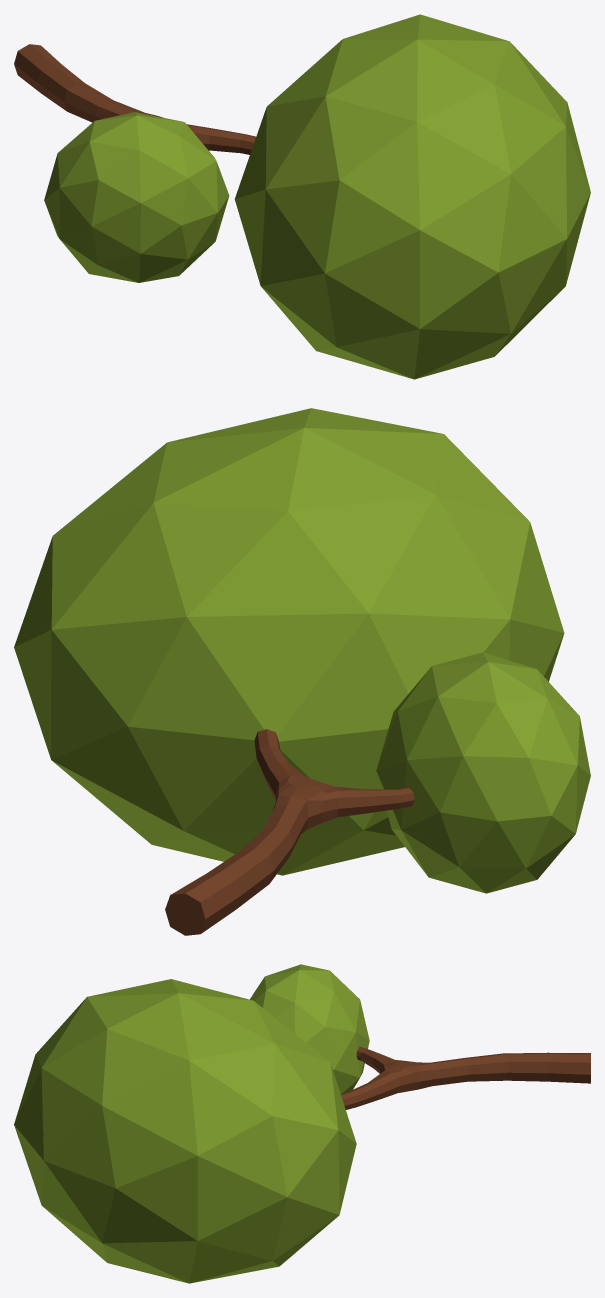
Rendered from tree.fbx.
3 renders of one model, top to bottom at view 1: azimuth 30°, elevation 25°; view 2: azimuth 150°, elevation 25°; view 3: azimuth 270°, elevation 25°, orthographic. The views are drawn at different scales.
Visible parts, largest first — view 1: huitugou_2006_93; view 2: huitugou_2006_93; view 3: huitugou_2006_93.
Part boxes in pixels (<box>): huitugou_2006_93: <box>14,14,590,379</box>; huitugou_2006_93: <box>14,408,590,935</box>; huitugou_2006_93: <box>14,964,590,1283</box>.
Bounding box in the file's own units: 413 × 284 × 540.
